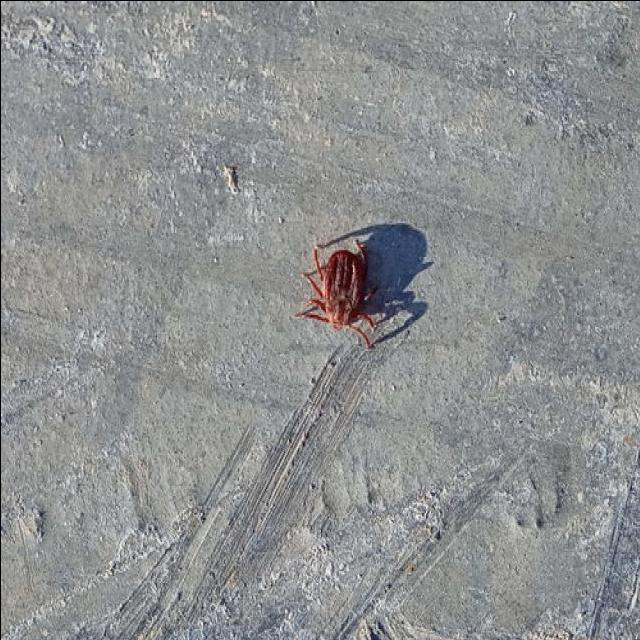Dermacentor Reticulatus-F: (292, 234, 379, 348)
